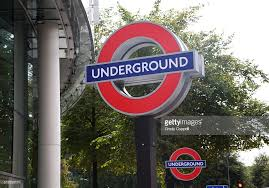London Underground: (86, 23, 194, 115), (165, 145, 206, 182)
